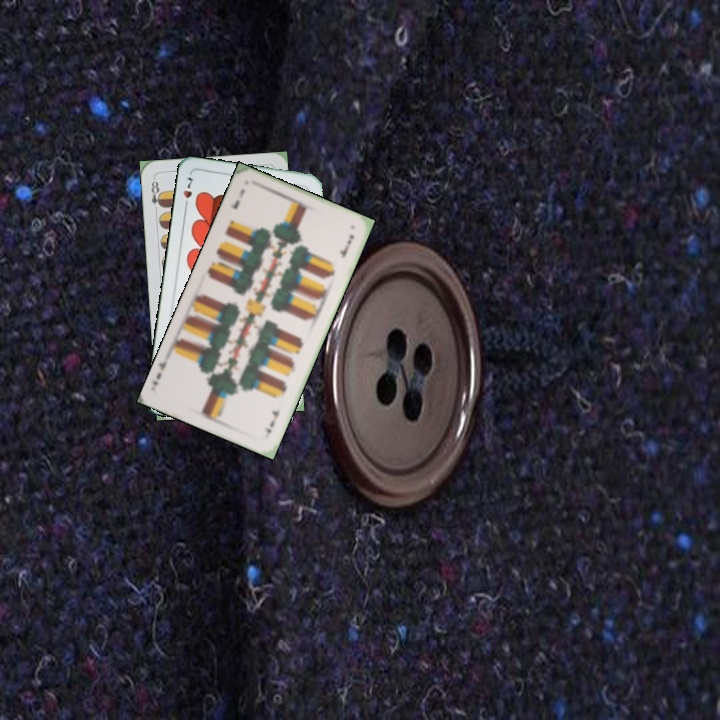E7: (260, 404, 283, 437), (226, 185, 247, 212)
E8: (147, 175, 165, 215)
H7: (179, 173, 196, 212)
